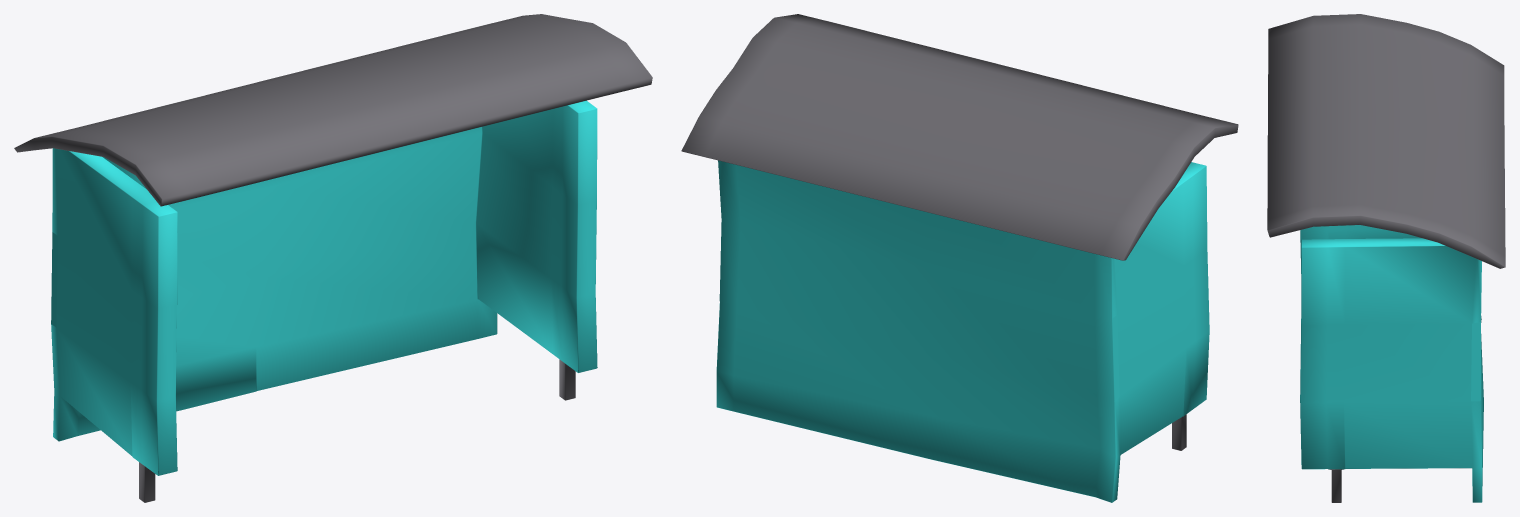
File: tramstop.fbx
3 renders of one model, left to right at view 1: azimuth 30°, elevation 25°; view 2: azimuth 150°, elevation 25°; view 3: azimuth 270°, elevation 25°, orthographic. The views are drawn at different scales.
Parts seen in each view (by area): view 1: Stop; view 2: Stop; view 3: Stop.
Part boxes in pixels (x1,y1,x2,y2): Stop: (14, 14, 652, 502); Stop: (681, 14, 1238, 502); Stop: (1267, 14, 1505, 502).
Bounding box in the file's own units: 2235 × 1513 × 1079.
